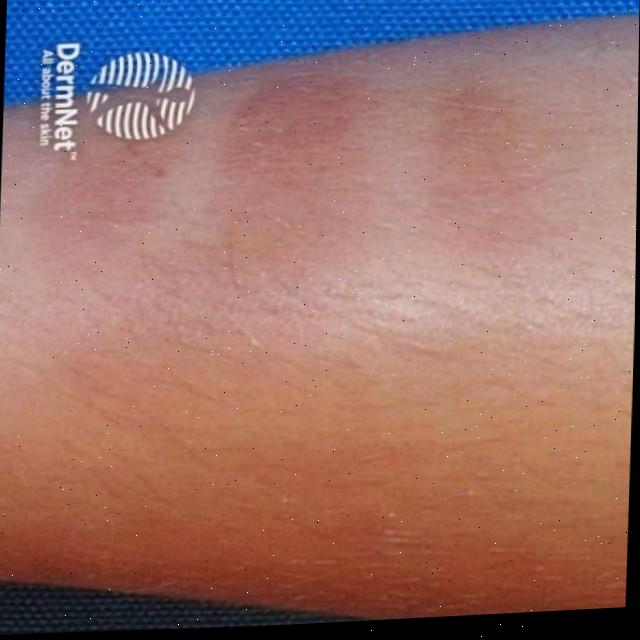Eczema: (72, 0, 597, 343)
